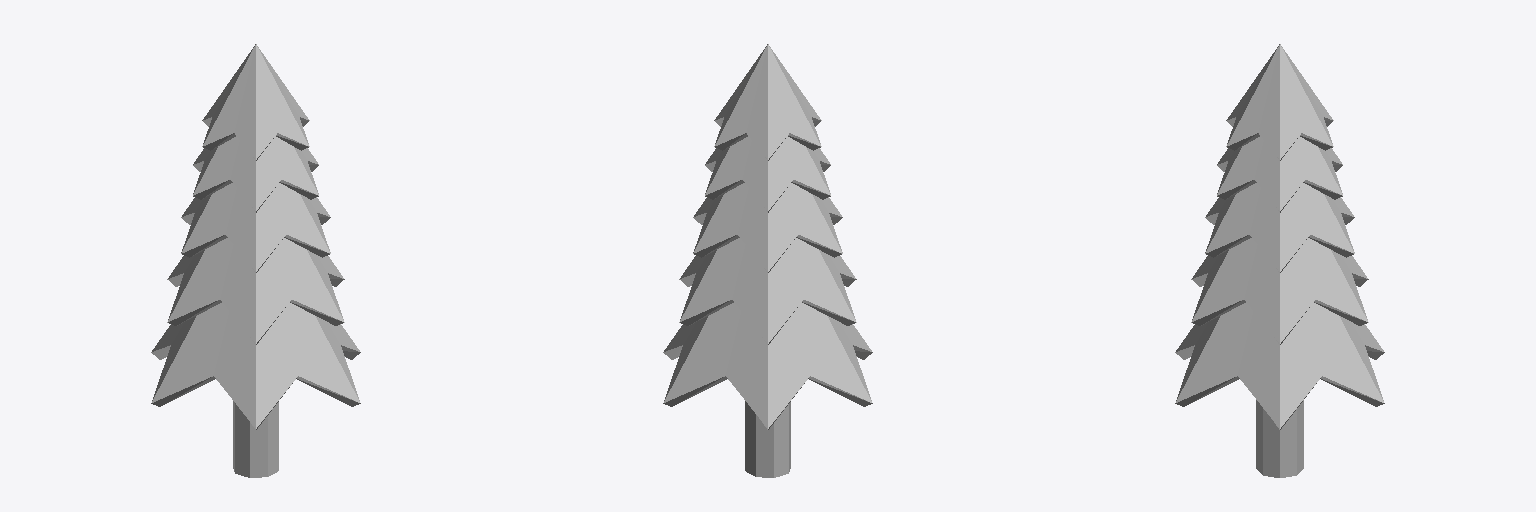
File: tree.obj
The picture shows the model from 3 angles: view 1: azimuth 30°, elevation 25°; view 2: azimuth 150°, elevation 25°; view 3: azimuth 270°, elevation 25°; orthographic projection.
Parts seen in each view (by area): view 1: tree; view 2: tree; view 3: tree.
Part boxes in pixels (bbox=[...]): tree: bbox=[151, 44, 360, 477]; tree: bbox=[663, 44, 872, 477]; tree: bbox=[1175, 44, 1384, 477].
Bounding box in the file's own units: 2 × 3.87 × 1.73.